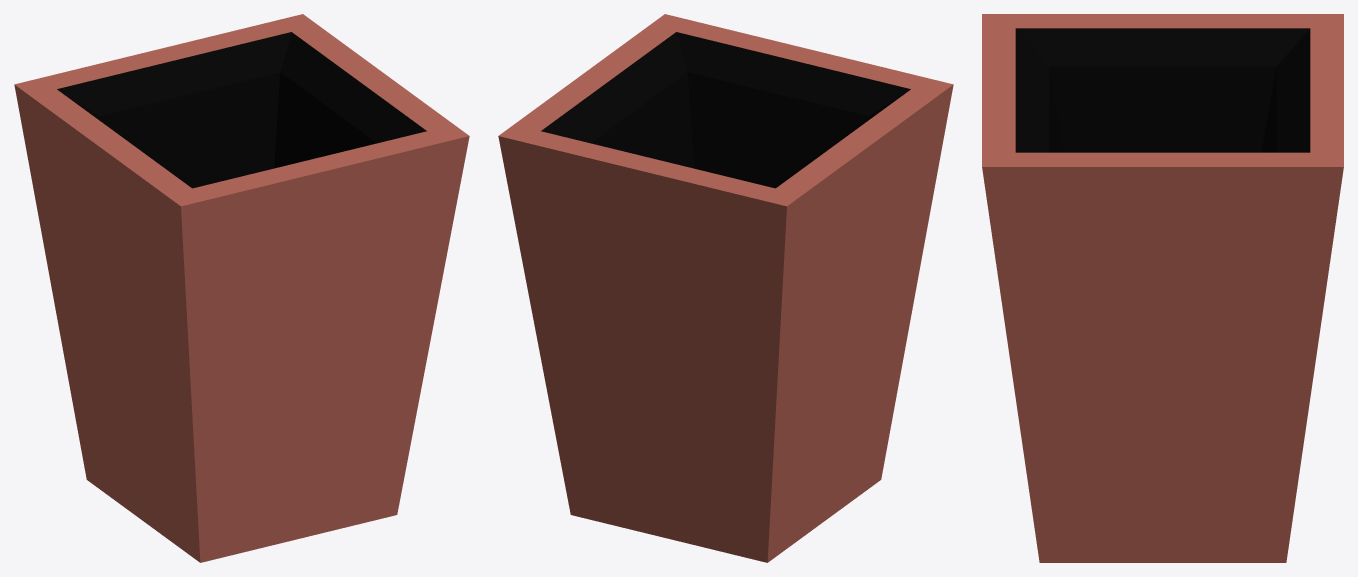
Rendered from Lixeira.fbx.
3 renders of one model, left to right at view 1: azimuth 30°, elevation 25°; view 2: azimuth 150°, elevation 25°; view 3: azimuth 270°, elevation 25°, orthographic. The views are drawn at different scales.
Parts seen in each view (by area): view 1: Cube; view 2: Cube; view 3: Cube.
Part boxes in pixels (x1=…): Cube: x1=14, y1=14, x2=469, y2=562; Cube: x1=498, y1=14, x2=953, y2=562; Cube: x1=982, y1=14, x2=1343, y2=562.
Bounding box in the file's own units: 142 × 182 × 142.
